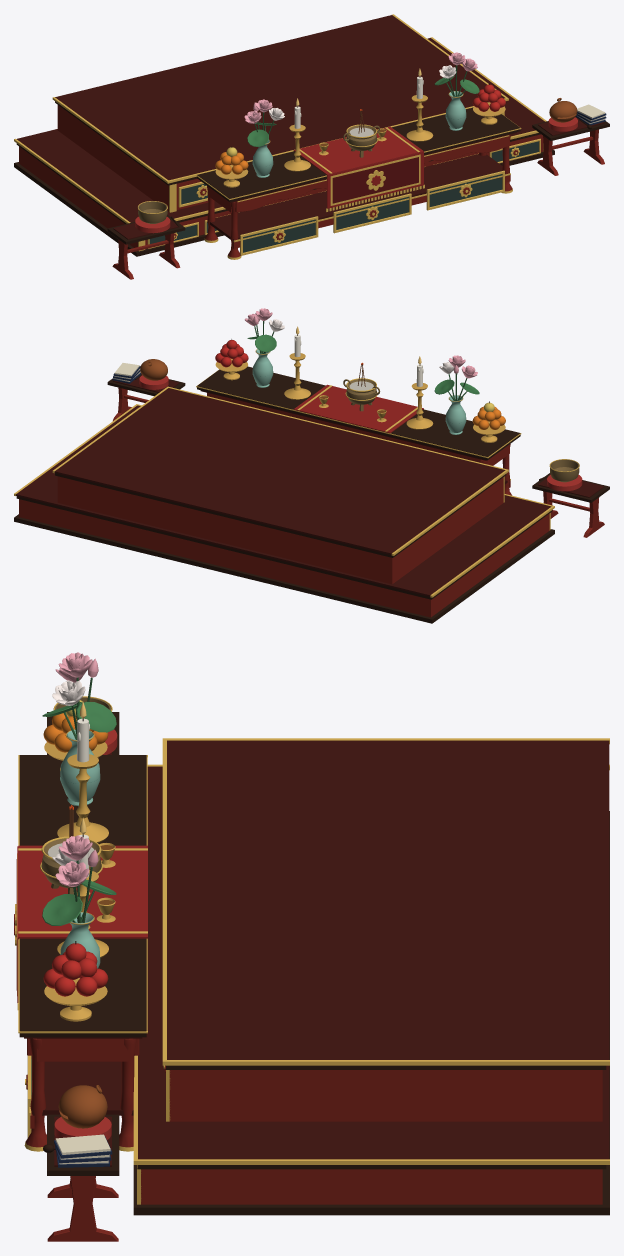
File: temple-altar.glb
3 views of the same model, one above another, from view 1: azimuth 30°, elevation 25°; view 2: azimuth 150°, elevation 25°; view 3: azimuth 270°, elevation 25° (orthographic). The views are drawn at different scales.
Parts seen in each view (by area): view 1: lacquerDark54, lacquerDark3, wood98, lacquerDark117, lacquer52, lacquer1, cloth138, clothDark143, lacquer112, wood0, panel132, panel126 (+26 smaller); view 2: lacquerDark54, lacquer52, lacquer1, lacquerDark3, wood98, wood0, cloth138, wood2, wood53, lacquer113, gold55, celadon187_mx (+11 smaller); view 3: lacquerDark54, lacquerDark3, lacquer52, wood98, lacquer1, cloth138, wood0, lacquerDark117, gold6, gold57, wood2, wood53 (+16 smaller).
Part boxes in pixels (left/top/right/bottom): lacquerDark54: left=55, top=15, right=505, bottom=180; lacquerDark3: left=17, top=38, right=544, bottom=222; wood98: left=197, top=107, right=520, bottom=201; lacquerDark117: left=207, top=154, right=509, bottom=241; lacquer52: left=57, top=105, right=208, bottom=211; lacquer1: left=19, top=134, right=543, bottom=247; cloth138: left=293, top=126, right=423, bottom=174; clothDark143: left=332, top=157, right=418, bottom=203; lacquer112: left=235, top=135, right=509, bottom=212; wood0: left=14, top=149, right=554, bottom=256; panel132: left=429, top=171, right=502, bottom=206; panel126: left=333, top=193, right=410, bottom=229; lacquerDark54: left=54, top=388, right=505, bottom=554; lacquer52: left=57, top=476, right=503, bottom=584; lacquer1: left=19, top=499, right=549, bottom=617; lacquerDark3: left=16, top=405, right=551, bottom=596; wood98: left=197, top=366, right=520, bottom=460; wood0: left=14, top=514, right=554, bottom=623; cloth138: left=293, top=384, right=423, bottom=433; wood2: left=16, top=496, right=552, bottom=599; wood53: left=55, top=473, right=506, bottom=557; lacquer113: left=207, top=393, right=481, bottom=462; gold55: left=167, top=386, right=508, bottom=472; celadon187_mx: left=445, top=395, right=466, bottom=434; lacquerDark54: left=167, top=740, right=609, bottom=1059; lacquerDark3: left=138, top=766, right=609, bottom=1159; lacquer52: left=169, top=1070, right=602, bottom=1121; wood98: left=19, top=755, right=146, bottom=1037; lacquer1: left=141, top=1169, right=602, bottom=1204; cloth138: left=18, top=845, right=147, bottom=938; wood0: left=133, top=811, right=609, bottom=1215; lacquerDark117: left=32, top=1061, right=133, bottom=1115; gold6: left=133, top=1159, right=609, bottom=1164; gold57: left=162, top=1060, right=609, bottom=1065; wood2: left=137, top=1165, right=606, bottom=1169; wood53: left=166, top=1065, right=606, bottom=1069.
Bounding box in the file's own units: 7.52 × 2.07 × 4.13.
